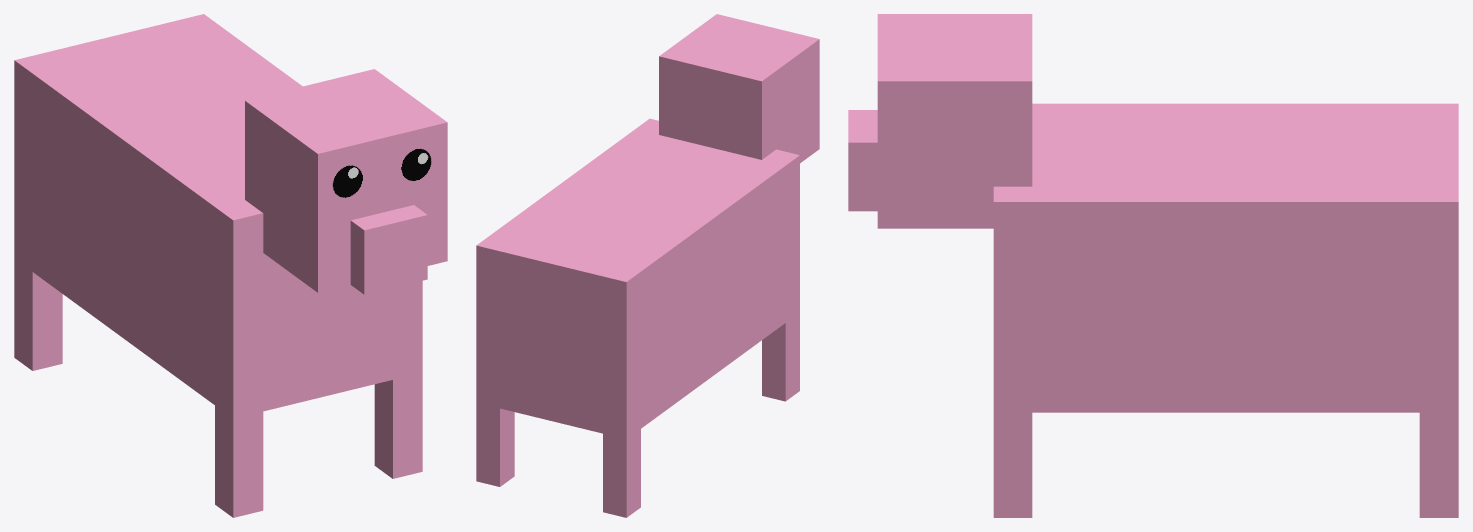
File: Pig.fbx
The picture shows the model from 3 angles, left to right: view 1: azimuth 30°, elevation 25°; view 2: azimuth 150°, elevation 25°; view 3: azimuth 270°, elevation 25°; orthographic projection. The views are drawn at different scales.
Parts seen in each view (by area): view 1: Cube; view 2: Cube; view 3: Cube.
Boxes of the visible parts, bbox=[...] form: Cube: bbox=[14, 14, 447, 517]; Cube: bbox=[476, 14, 819, 517]; Cube: bbox=[848, 14, 1458, 517].
Bounding box in the file's own units: 200 × 400 × 525.
Materials: 1 (1 with a texture image).
